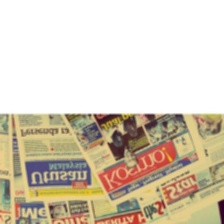news_paper: (56, 111, 207, 209), (11, 112, 111, 205), (156, 113, 224, 222), (0, 113, 52, 223), (83, 185, 174, 223), (42, 197, 94, 224)
